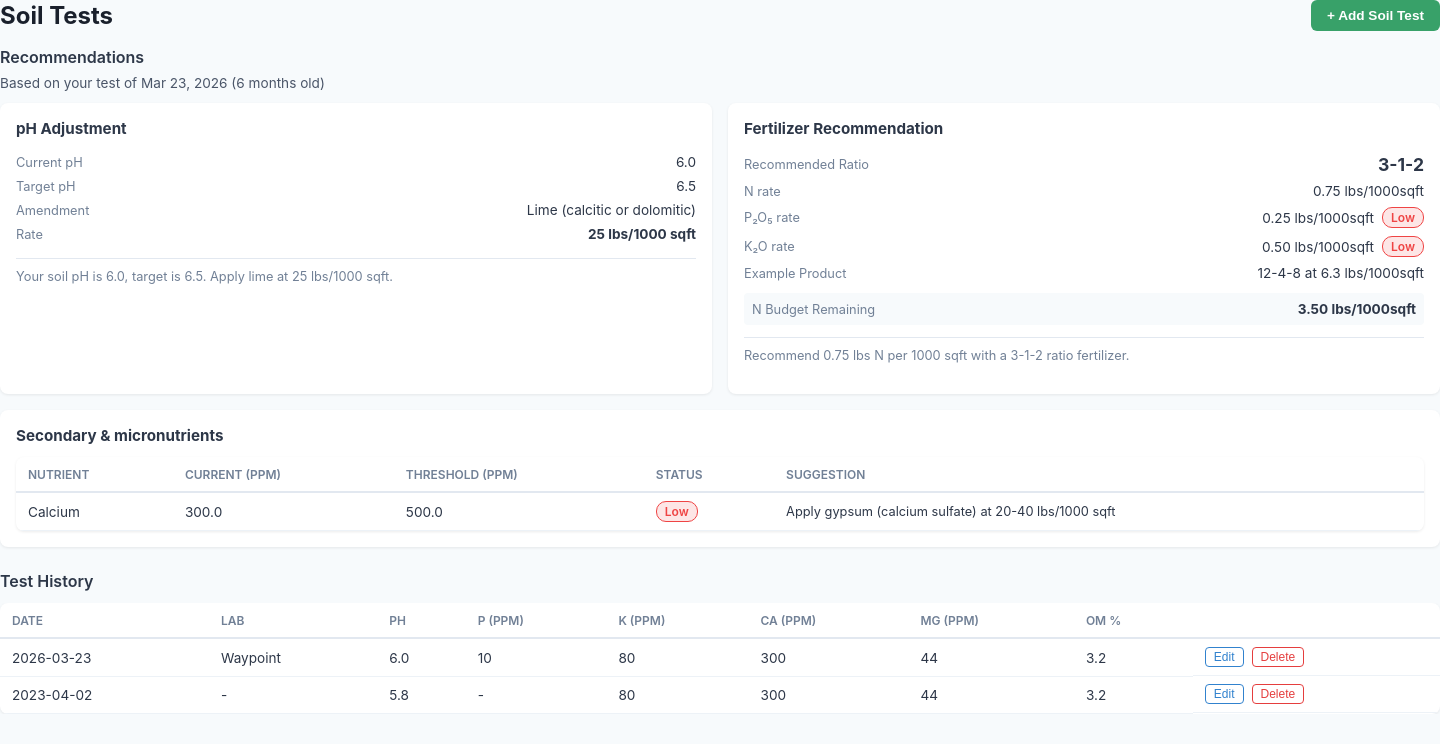
Test: Soil Tests page › after a save closes and resets the form and reloads tests and advice
Check: the heading "Test History" is shown, box [0,571,93,591]
Click the button "Edit" in the row of "2026-03-23" at [1224, 657], box [1205,647,1244,667]
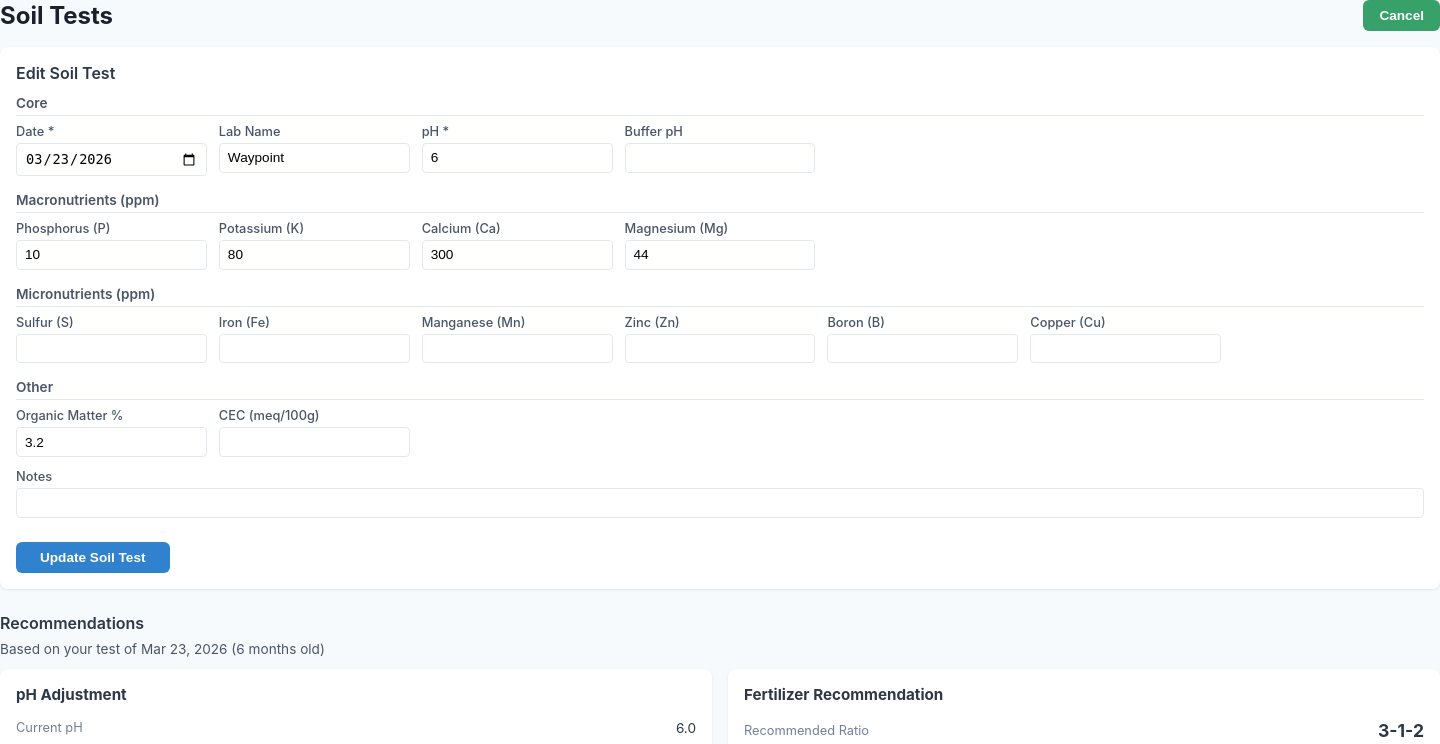
Click the button "Update Soil Test" at [93, 557], box [16,542,170,573]
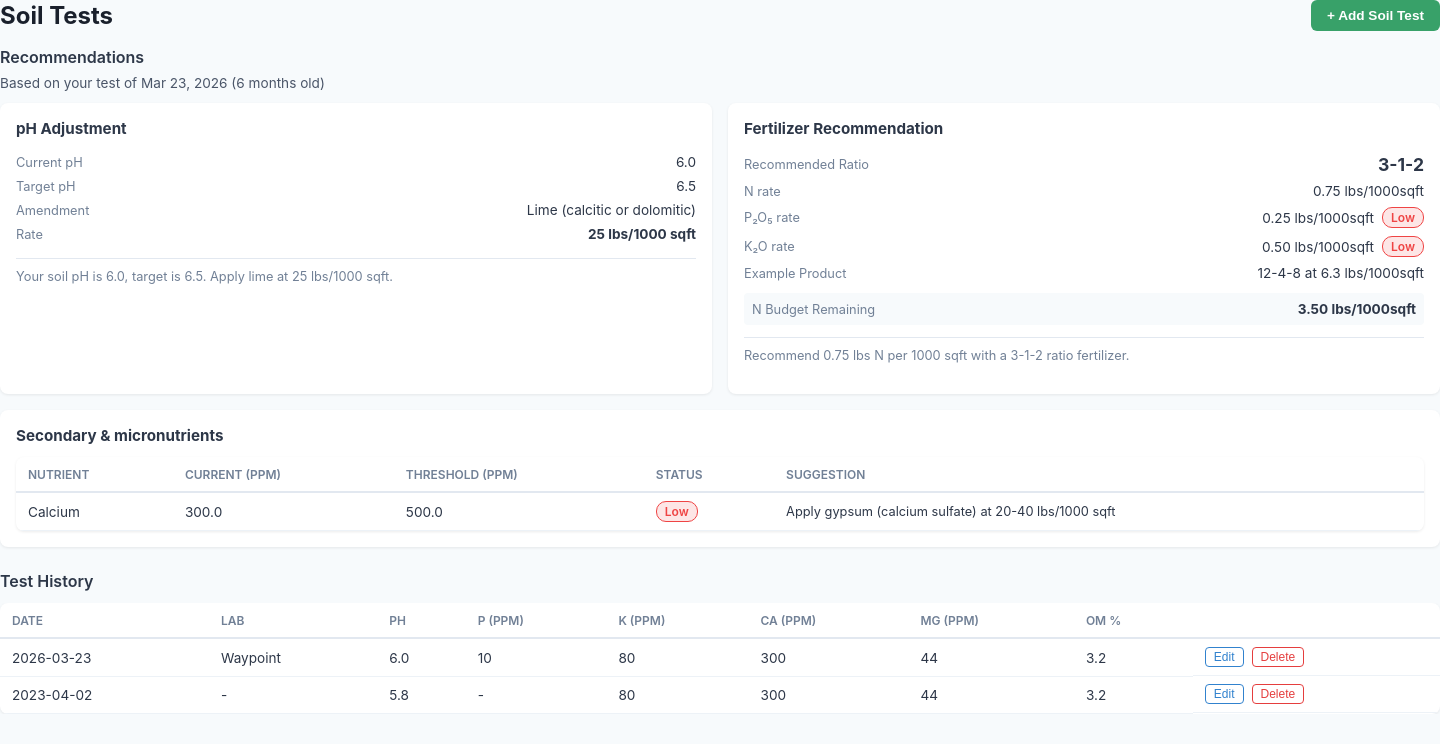
Check: the heading "Edit Soil Test" is gone
Click the button "+ Add Soil Test" at [1375, 16], box [1311,0,1439,31]
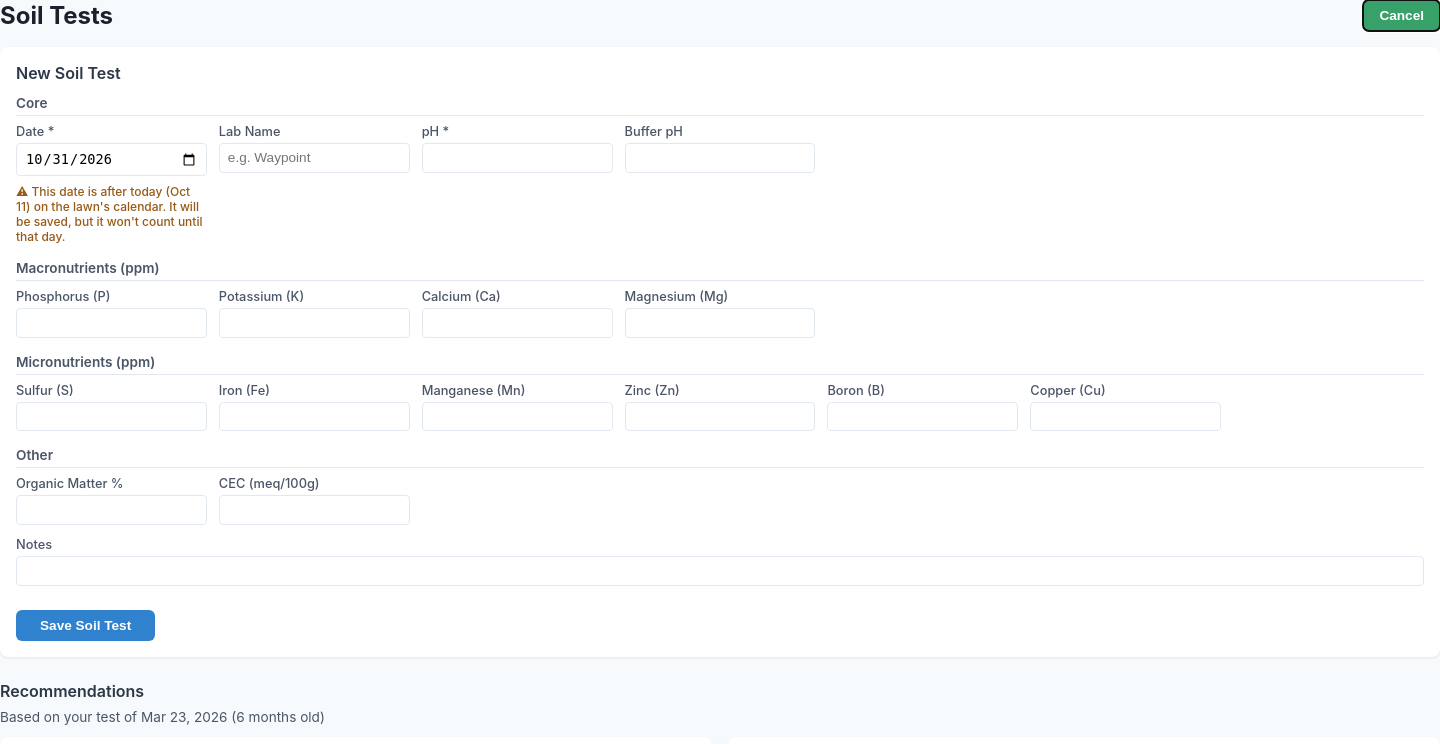
Check: the number field labelled "pH *" is empty, box [422,143,613,173]
Check: the heading "New Soil Test" is shown, box [16,63,121,83]
